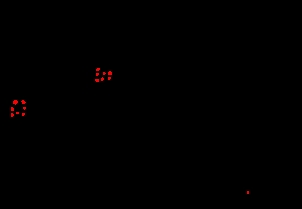Target: (13, 100, 18, 105), (21, 100, 26, 104), (108, 71, 112, 75), (96, 68, 100, 71), (101, 77, 104, 81), (95, 79, 99, 82), (11, 107, 14, 111), (11, 113, 14, 117), (103, 72, 106, 75), (96, 73, 99, 76), (108, 77, 111, 80), (23, 107, 26, 110), (22, 113, 25, 116), (16, 112, 19, 114), (247, 191, 249, 194)
